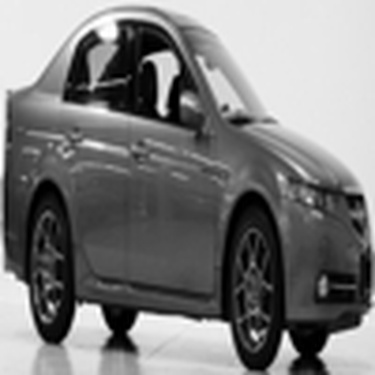car: (1, 9, 374, 371)
